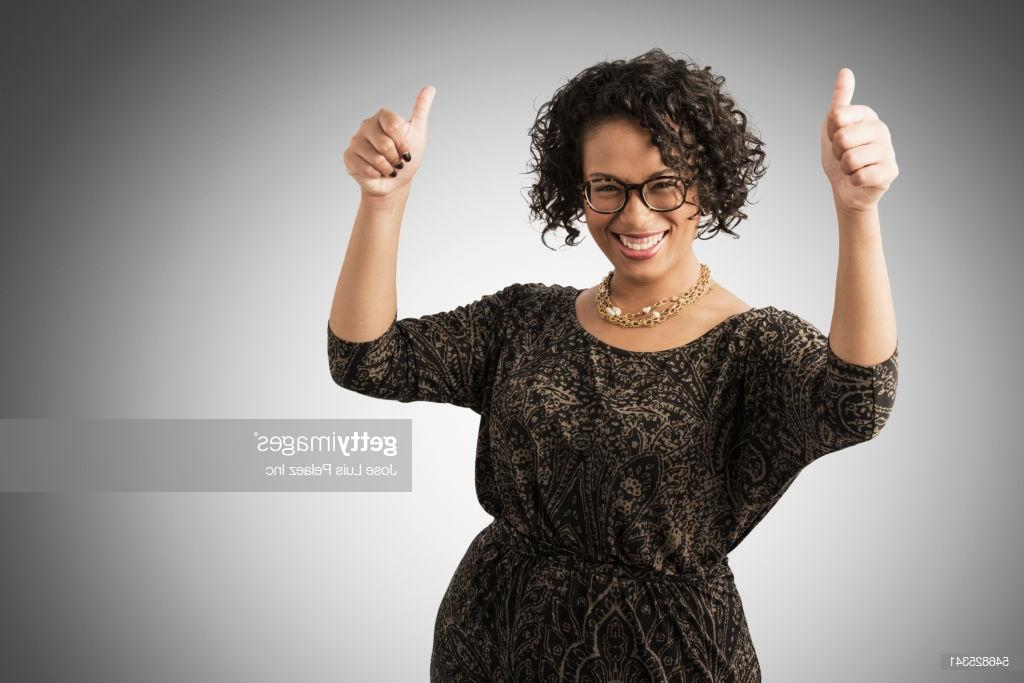thumbsup: (827, 66, 901, 189), (343, 84, 436, 181)
